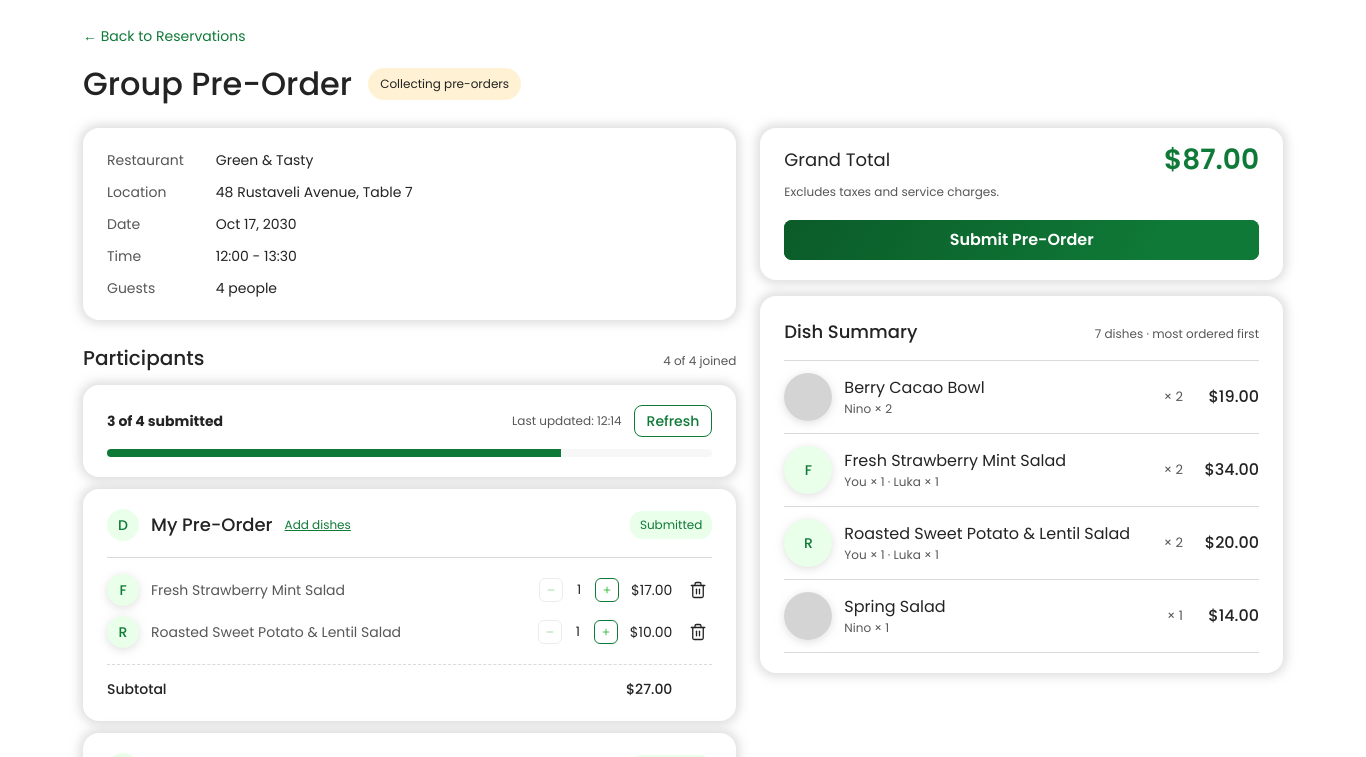
Сторінка Group Pre-Order › редагування › Submit Pre-Order → діалог → «Sent to Restaurant»
The width and height of the screenshot is (1366, 757).
Click the button "Submit Pre-Order" at (1022, 240), box x1=784 y1=220 x2=1259 y2=260
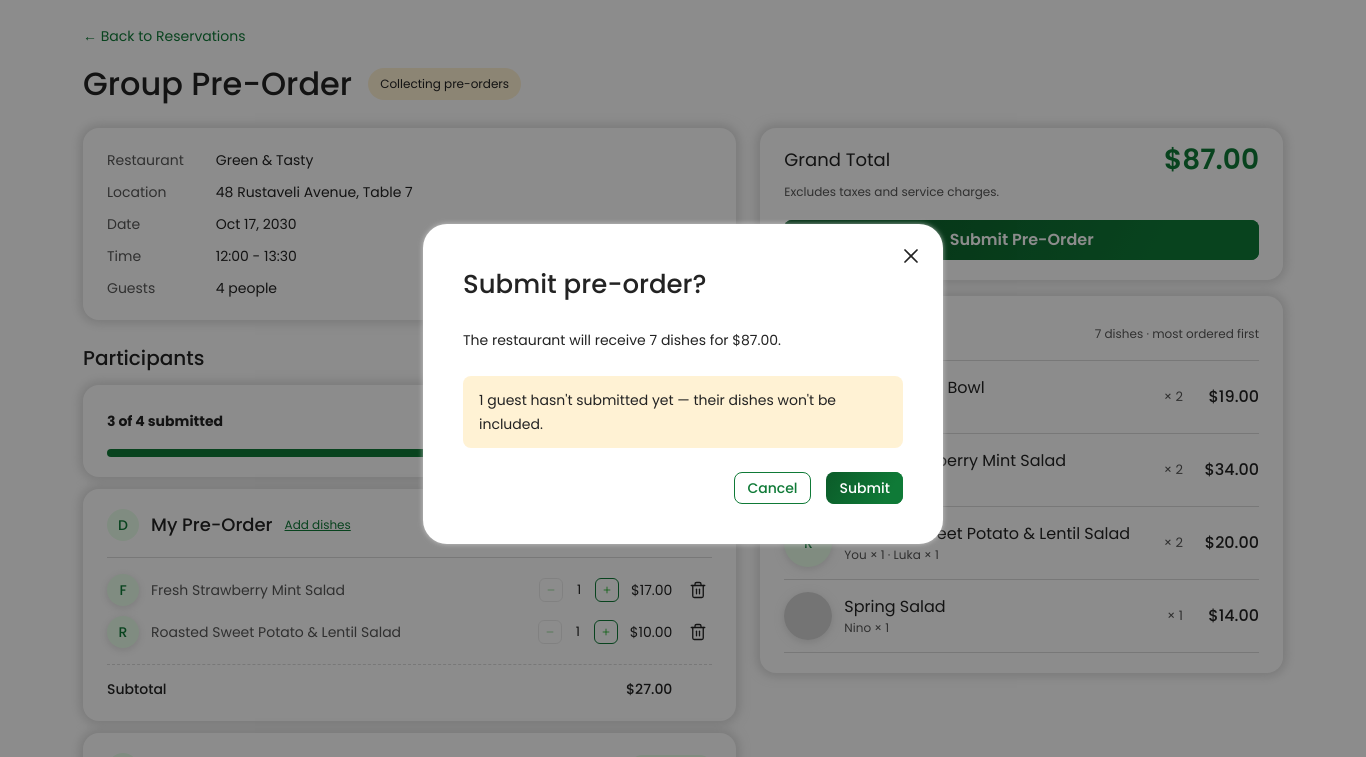
Click the button "Submit" at (865, 488), box x1=826 y1=472 x2=903 y2=504
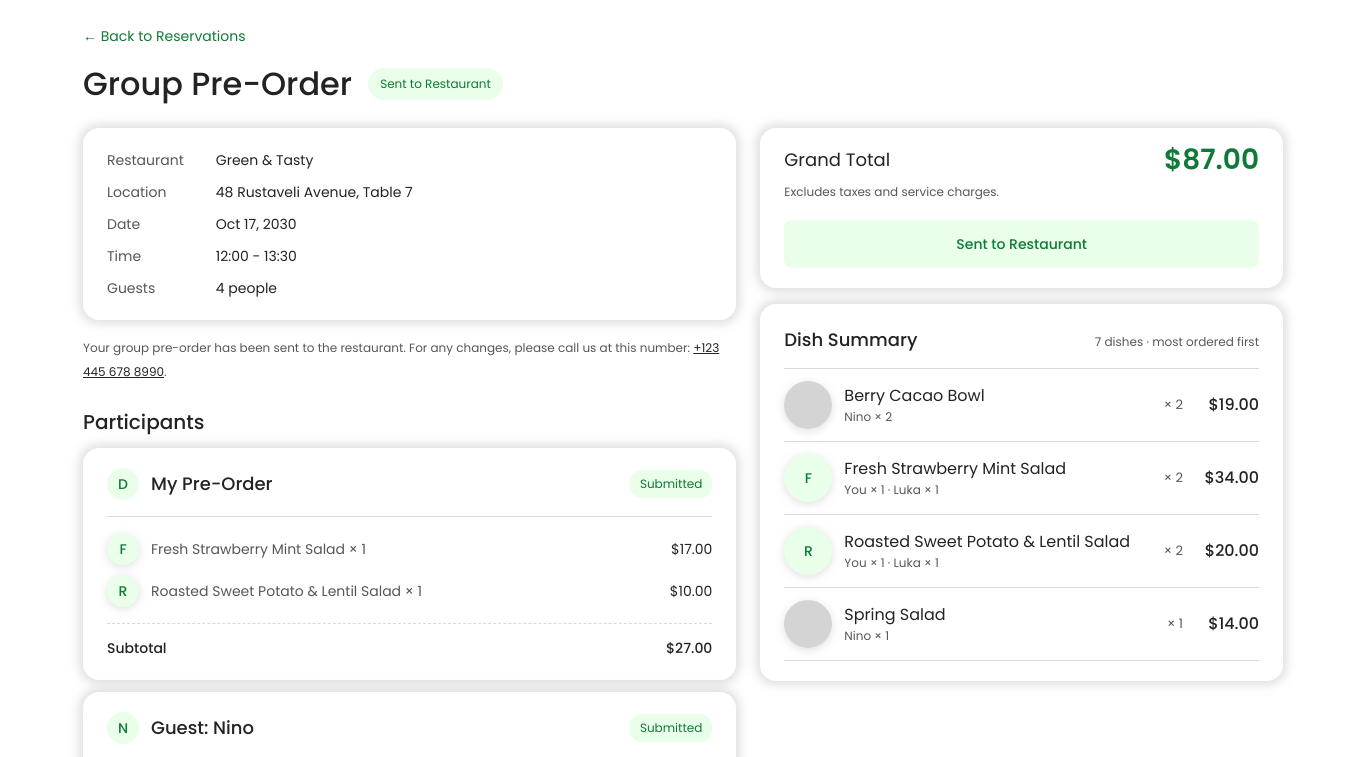
Expected: the text "Sent to Restaurant" is shown, x1=368 y1=68 x2=503 y2=100
